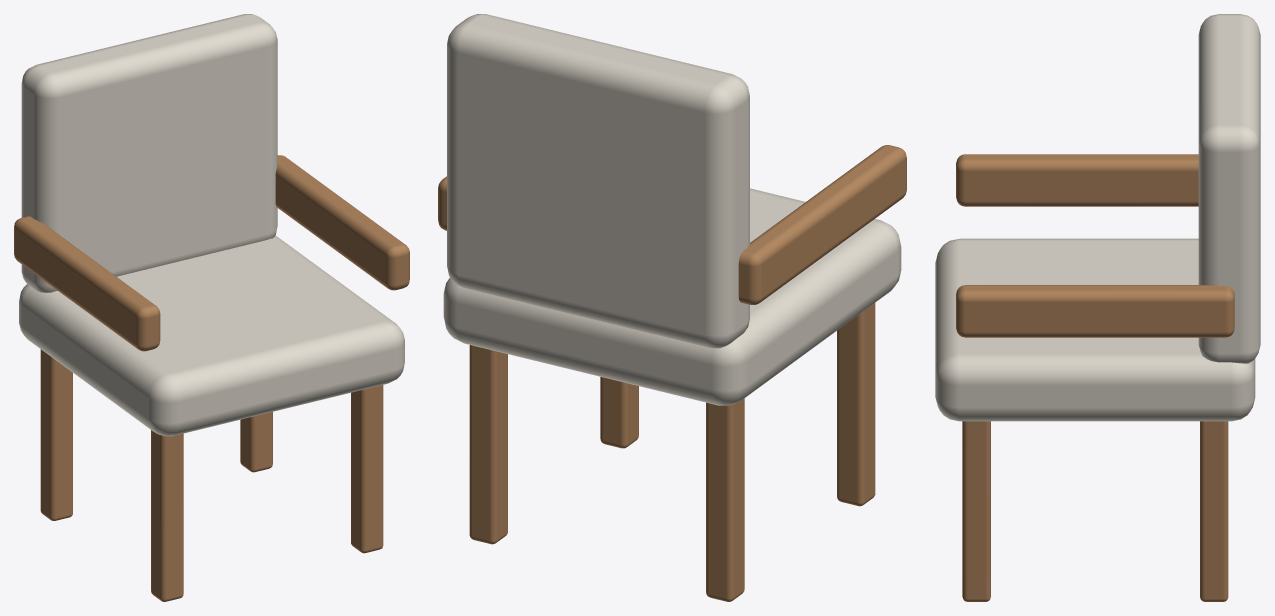
Rendered from chair.glb.
The picture shows the model from 3 angles, left to right: view 1: azimuth 30°, elevation 25°; view 2: azimuth 150°, elevation 25°; view 3: azimuth 270°, elevation 25°; orthographic projection. The views are drawn at different scales.
Visible parts, largest first — view 1: 自制阅读椅; view 2: 自制阅读椅; view 3: 自制阅读椅.
Boxes of the visible parts, x1=… form: 自制阅读椅: x1=14, y1=14, x2=409, y2=601; 自制阅读椅: x1=438, y1=14, x2=906, y2=601; 自制阅读椅: x1=935, y1=14, x2=1260, y2=601.
Size of the model in its own units: 0.655 by 1.01 by 0.63.
